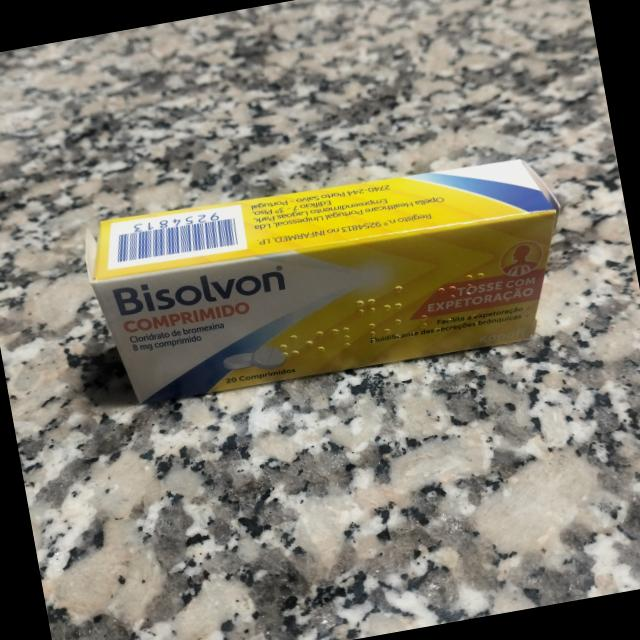box: (80, 140, 582, 415)
